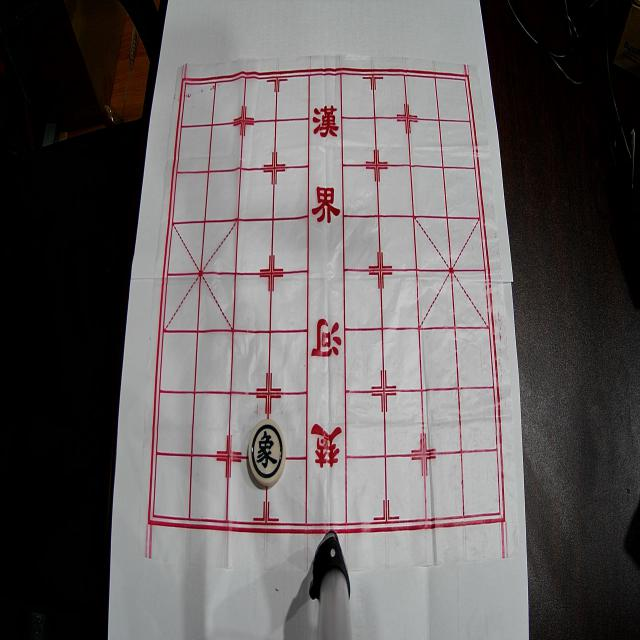black-elephant: (248, 419, 286, 486)
